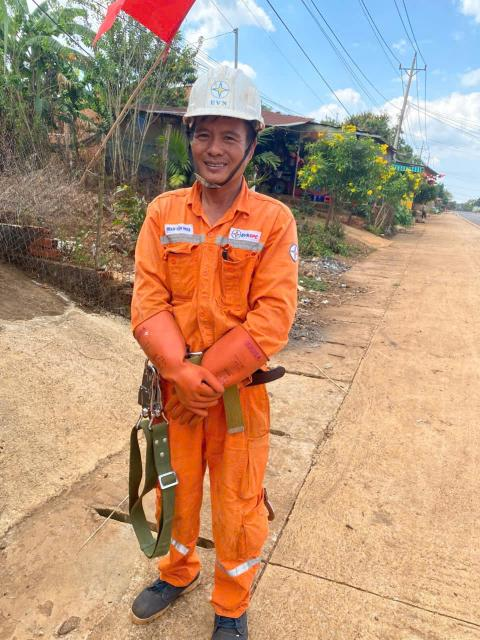gloves: (109, 298, 226, 419), (161, 318, 262, 439)
harness: (111, 343, 300, 395)
helmet: (149, 51, 290, 146)
shoes: (116, 558, 202, 628), (204, 589, 276, 640)
